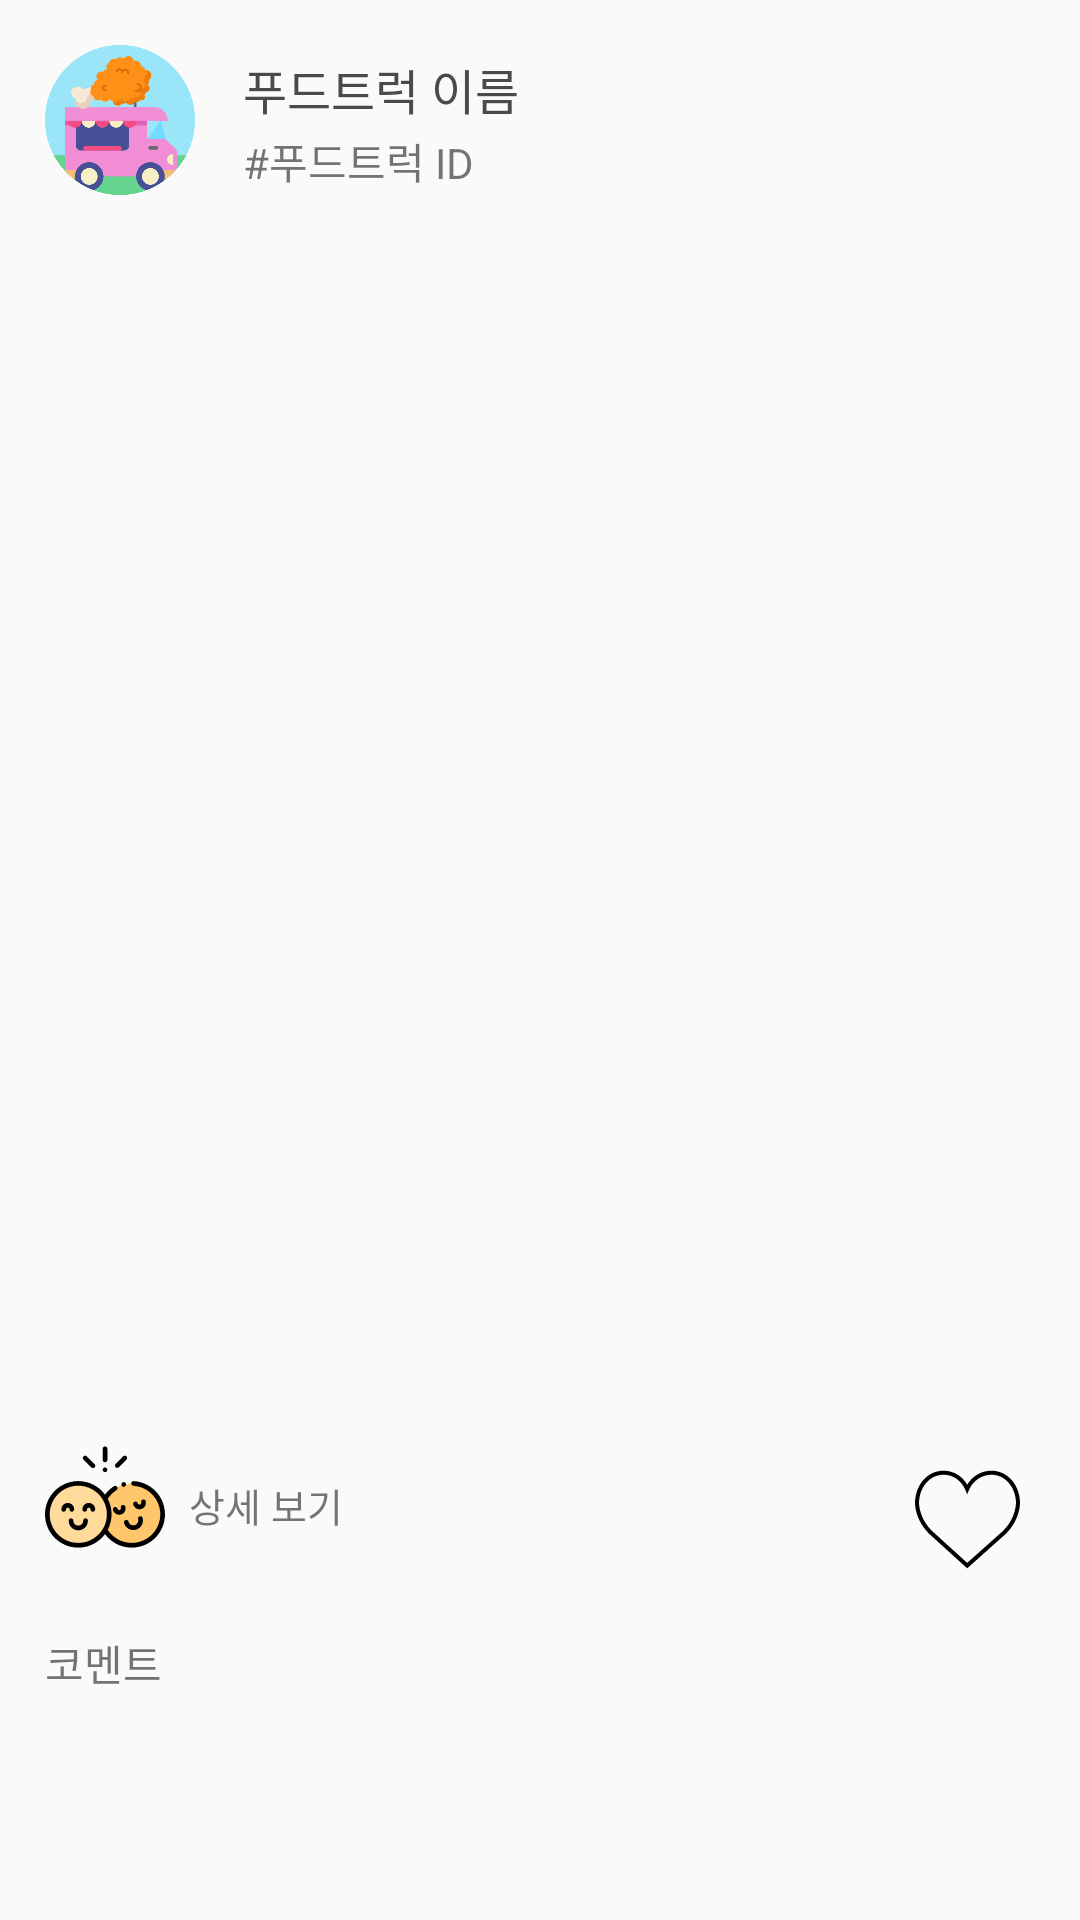

Icons on this 1080×1920 Android screen, each with the point to tap as (x,y):
foodtruckgram: (120,120)
like: (967,1519)
